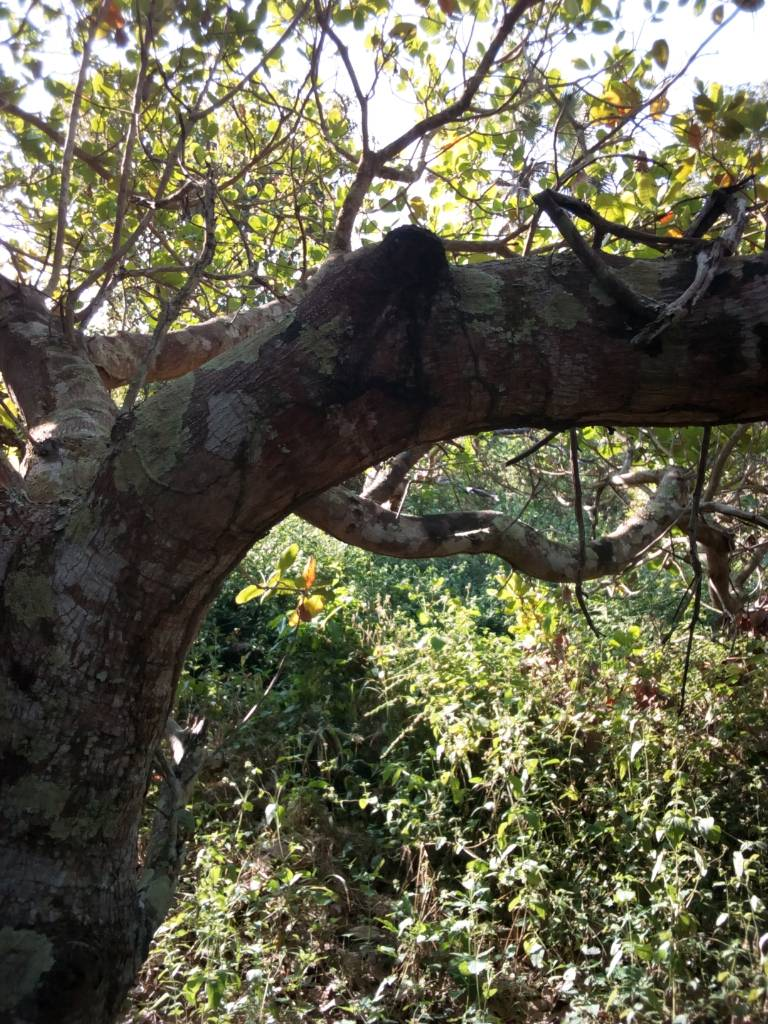Termites: (144, 477, 208, 772)
